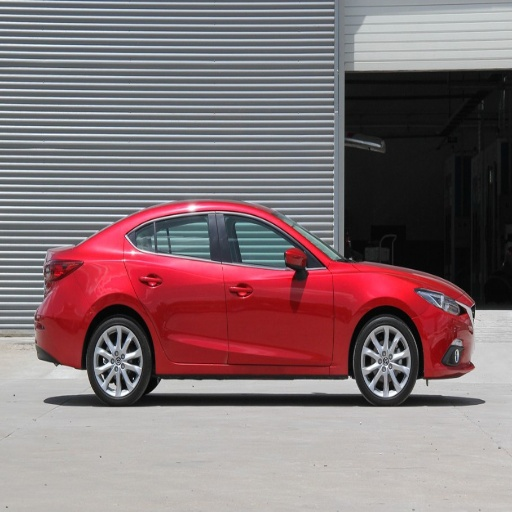_background_: (37, 304, 88, 361)
back_left_light: (129, 209, 226, 363)
back_right_door: (46, 257, 82, 293)
back_right_light: (424, 305, 462, 365)
front_left_light: (219, 209, 330, 364)
trunk: (353, 316, 419, 404), (87, 314, 151, 404)
